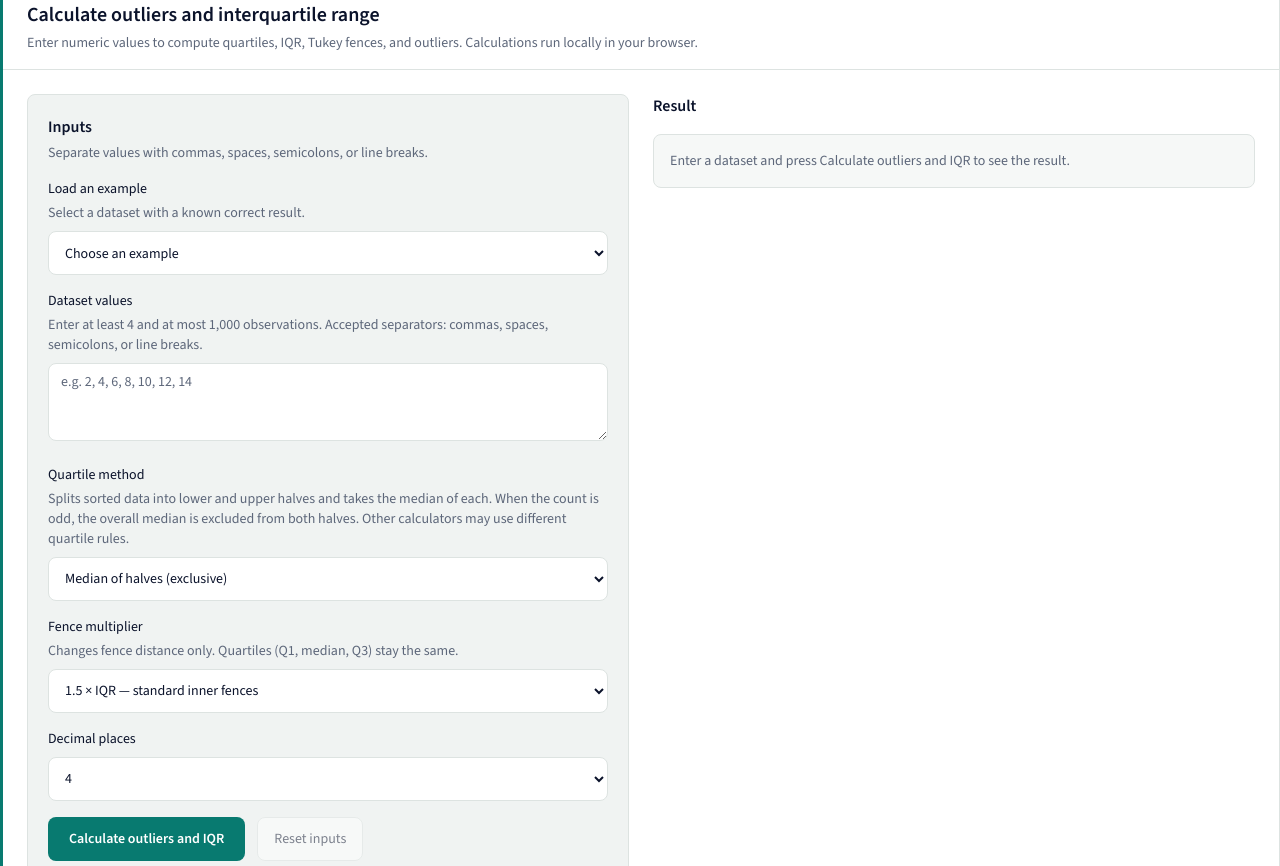
Test: OutlierIqrCalculator workflow › calculates the default reference dataset
Step 1. Type "2, 4, 6, 8, 10, 12, 14" into the text box labelled "Dataset values" → (328, 402), box [48,363,608,441]
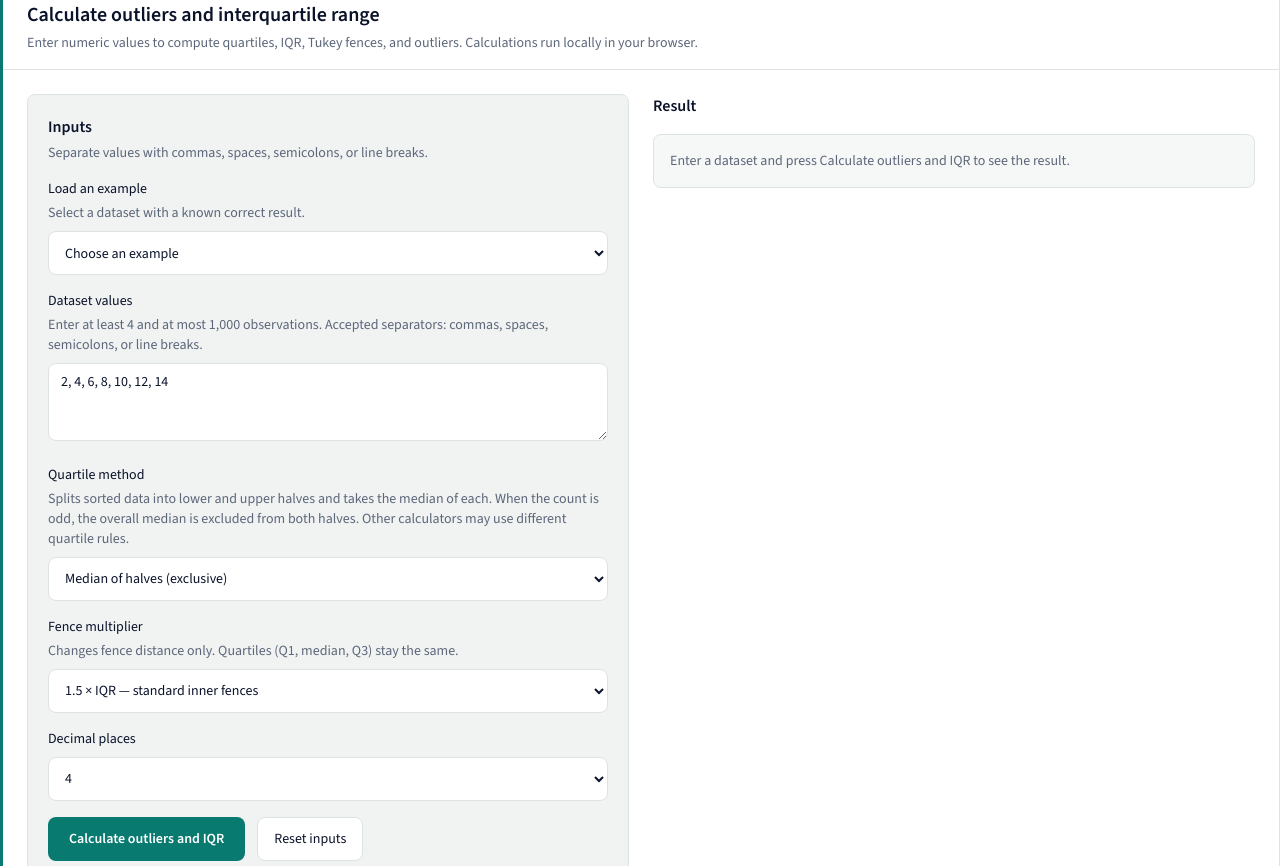
Step 2. Click the button "Calculate outliers and IQR" → (147, 839), box [48,817,245,861]
(page scrolled)
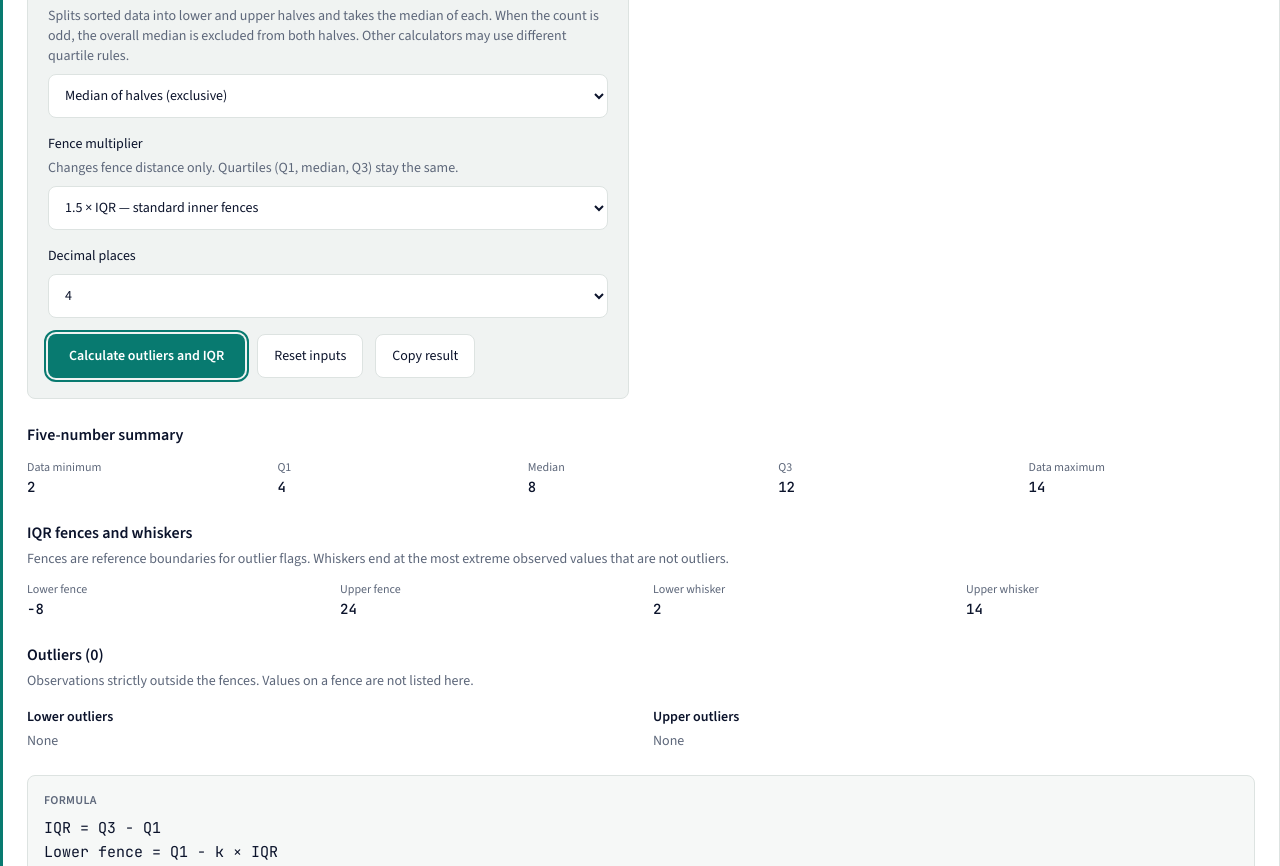
Check: the heading "Five-number summary" is shown, box [27,424,183,445]
